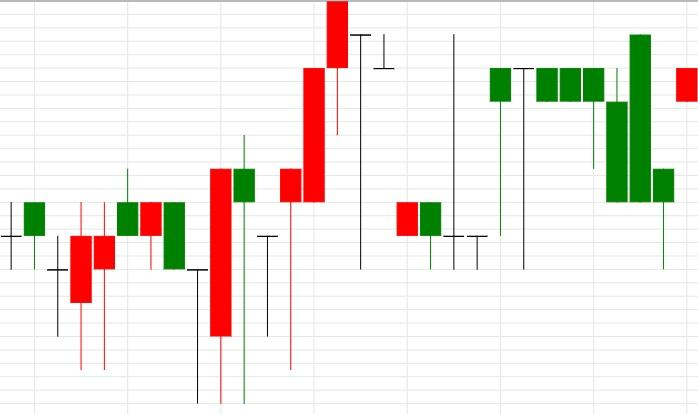hammer_rise: (489, 34, 675, 270)
morning_star_rise: (116, 168, 233, 404)
